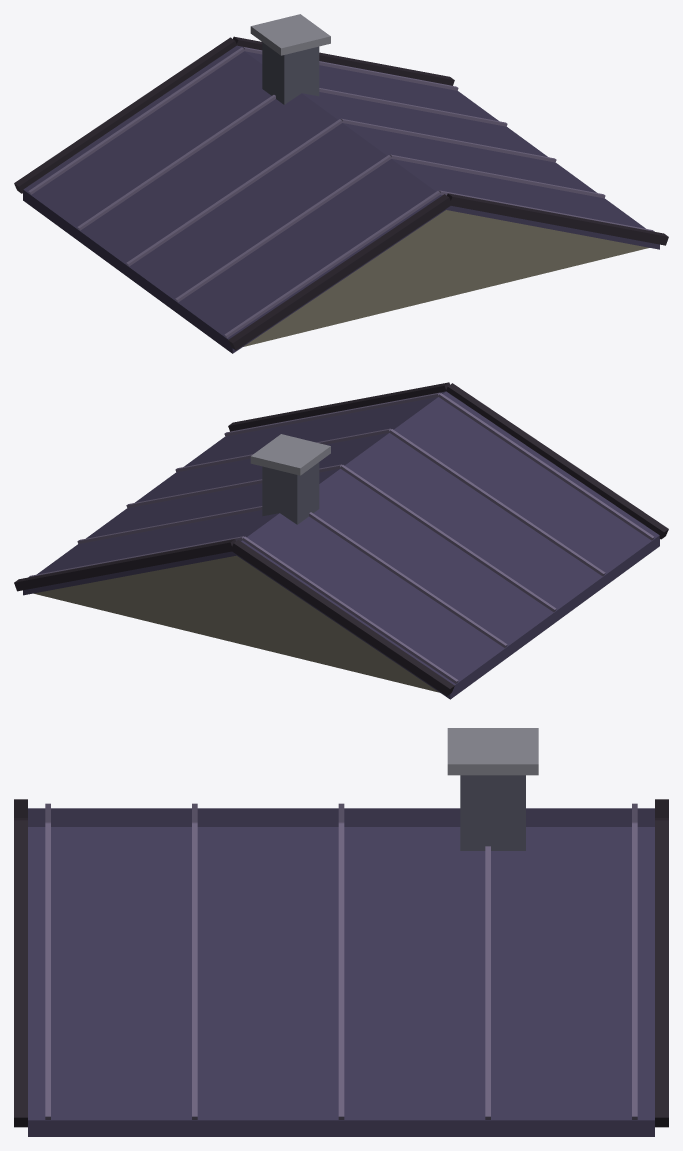
Rendered from HauntedWoods_ManorRoof_Showcase.glb.
3 renders of one model, top to bottom at view 1: azimuth 30°, elevation 25°; view 2: azimuth 150°, elevation 25°; view 3: azimuth 270°, elevation 25°, orthographic. The views are drawn at different scales.
Visible parts, largest first — view 1: HauntedWoods_ManorRoof_Showcase; view 2: HauntedWoods_ManorRoof_Showcase; view 3: HauntedWoods_ManorRoof_Showcase.
Boxes of the visible parts, <box> form: HauntedWoods_ManorRoof_Showcase: <box>14,14,668,353</box>; HauntedWoods_ManorRoof_Showcase: <box>14,382,668,699</box>; HauntedWoods_ManorRoof_Showcase: <box>14,728,668,1136</box>.
Size of the model in its own units: 7.45 by 2.56 by 6.48.
